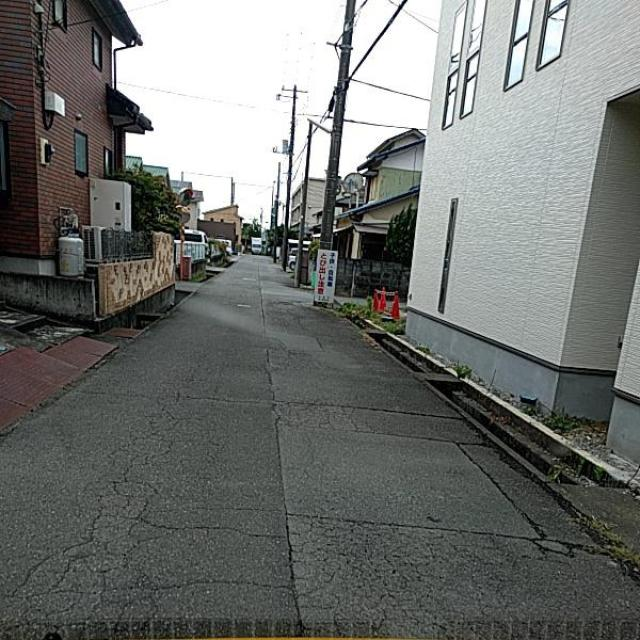Crack: (37, 314, 571, 613)
